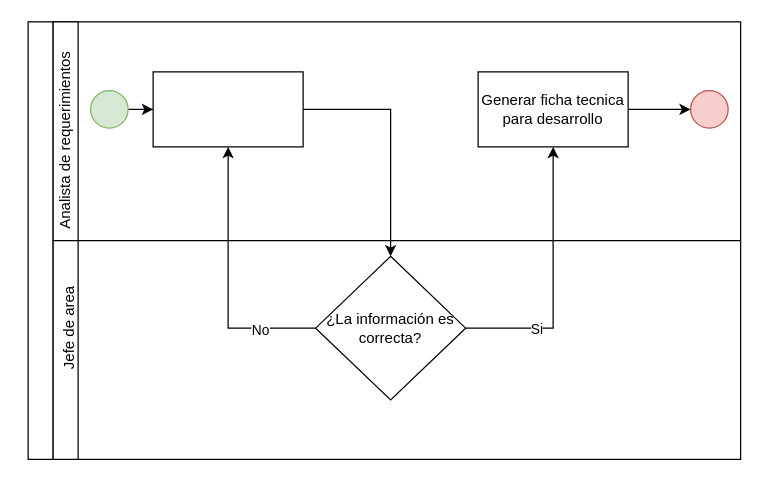
Some shapes in this 764 by 481 pixel diagram are drawn without their labels. Each missing label, with the centre of its shape:
"Levantamiento de información de catalogo" belongs at point (40, 240).
"Levantar información de sistemas" belongs at point (227, 109).
